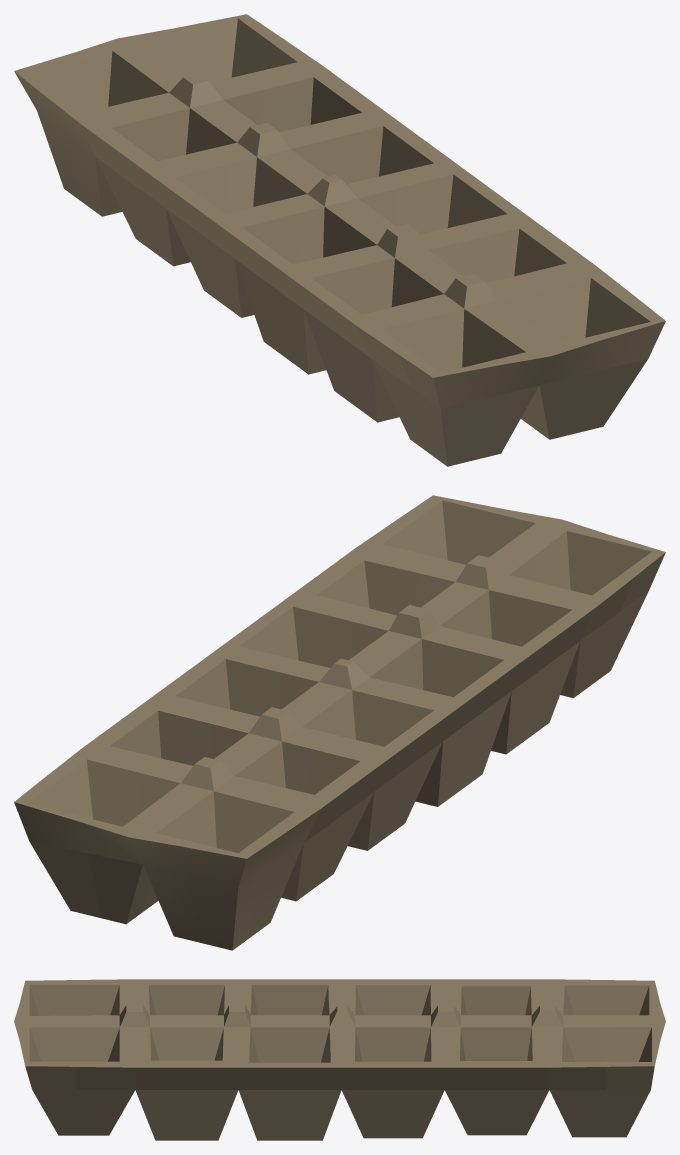
Rendered from Egg_Carton_Base_MDL.fbx.
3 renders of one model, top to bottom at view 1: azimuth 30°, elevation 25°; view 2: azimuth 150°, elevation 25°; view 3: azimuth 270°, elevation 25°, orthographic. The views are drawn at different scales.
Parts seen in each view (by area): view 1: Carton; view 2: Carton; view 3: Carton.
Boxes of the visible parts, x1,y1,x2,y2 form: Carton: [14, 14, 665, 466]; Carton: [14, 495, 665, 950]; Carton: [14, 979, 665, 1140].
Bounding box in the file's own units: 15.57 × 8.73 × 48.52.
